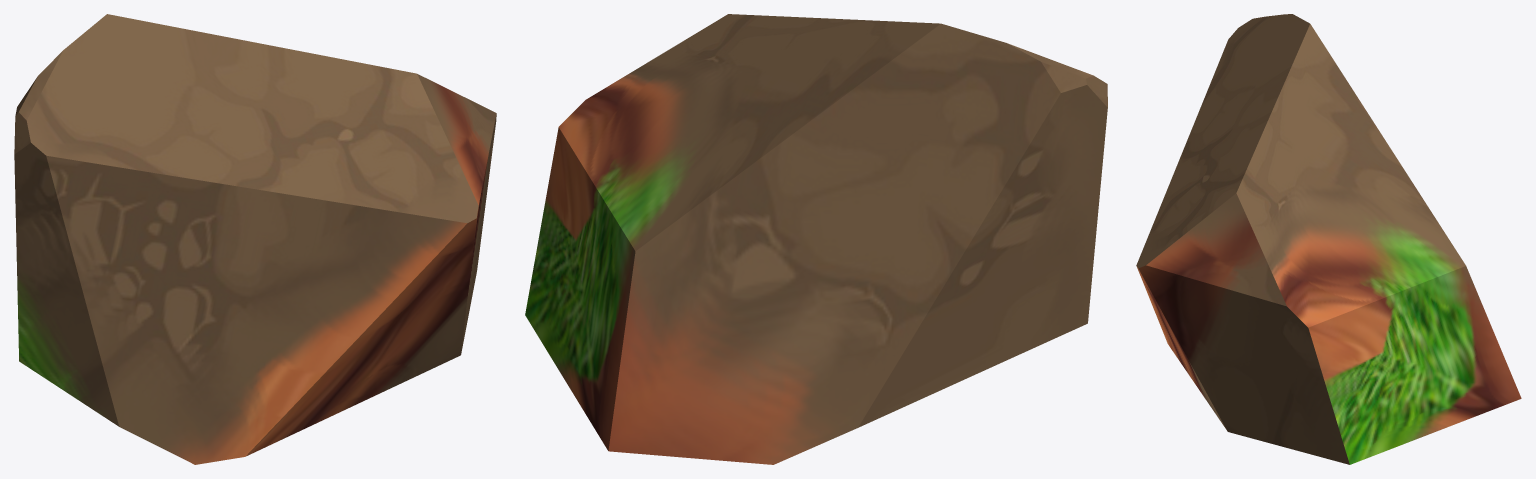
File: Roca1Mio.fbx
3 renders of one model, left to right at view 1: azimuth 30°, elevation 25°; view 2: azimuth 150°, elevation 25°; view 3: azimuth 270°, elevation 25°, orthographic. The views are drawn at different scales.
Visible parts, largest first — view 1: RocaEscenario1; view 2: RocaEscenario1; view 3: RocaEscenario1.
Part boxes in pixels (x1,y1,x2,y2): RocaEscenario1: (14, 14, 496, 464); RocaEscenario1: (525, 14, 1107, 464); RocaEscenario1: (1136, 14, 1521, 464).
Bounding box in the file's own units: 17.89 × 12.66 × 14.54.
1 material, 1 textured.
